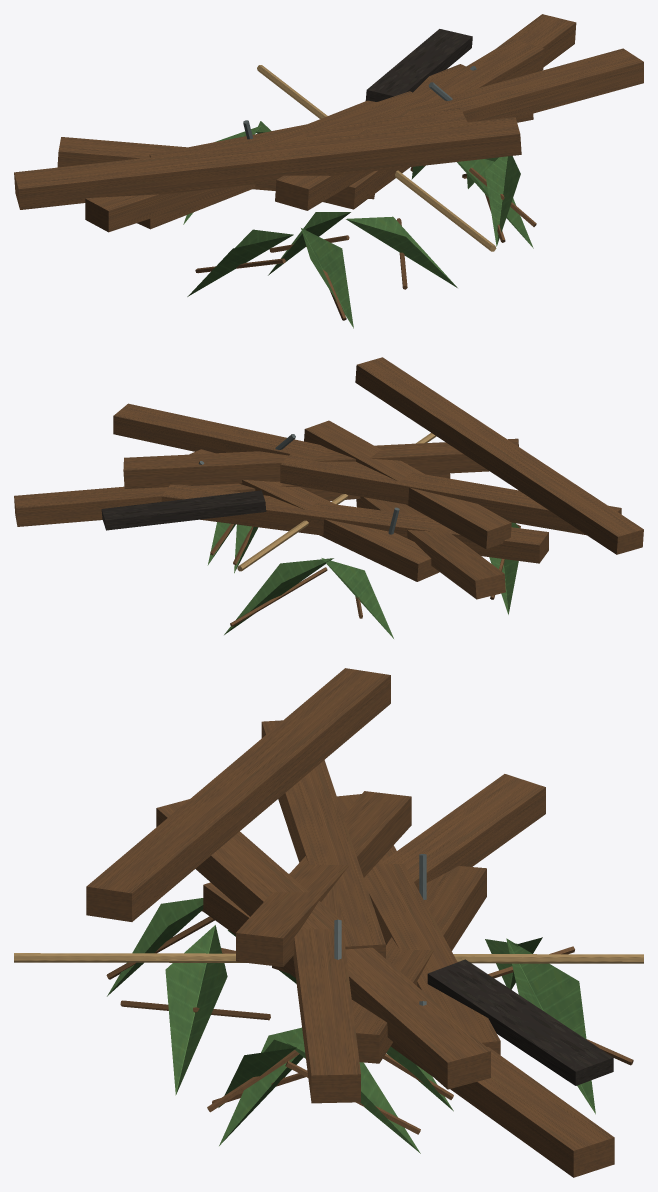
Rendered from en-002_broken_plank_pile__medium.obj.
3 views of the same model, one above another, from view 1: azimuth 30°, elevation 25°; view 2: azimuth 150°, elevation 25°; view 3: azimuth 270°, elevation 25° (orthographic). The views are drawn at different scales.
Visible parts, largest first — view 1: en-002_broken_plank_pile__medium; view 2: en-002_broken_plank_pile__medium; view 3: en-002_broken_plank_pile__medium.
Part boxes in pixels (x1,y1,x2,y2): en-002_broken_plank_pile__medium: (14,14,643,328); en-002_broken_plank_pile__medium: (14,357,643,638); en-002_broken_plank_pile__medium: (14,668,643,1177).
Bounding box in the file's own units: 2.06 × 0.5488 × 1.33.
5 materials, 5 textured.
